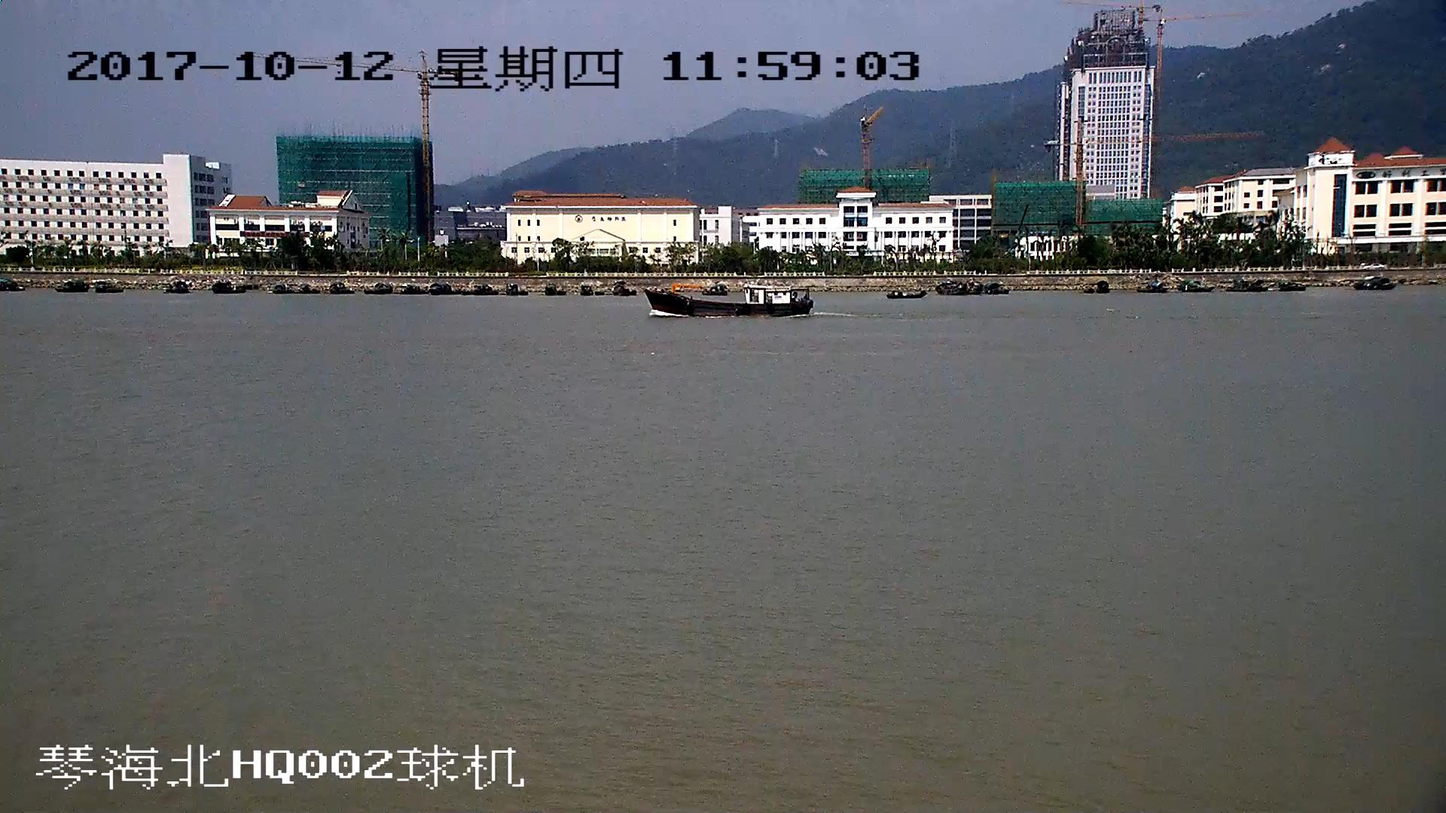fishing boat: (643, 283, 807, 315)
